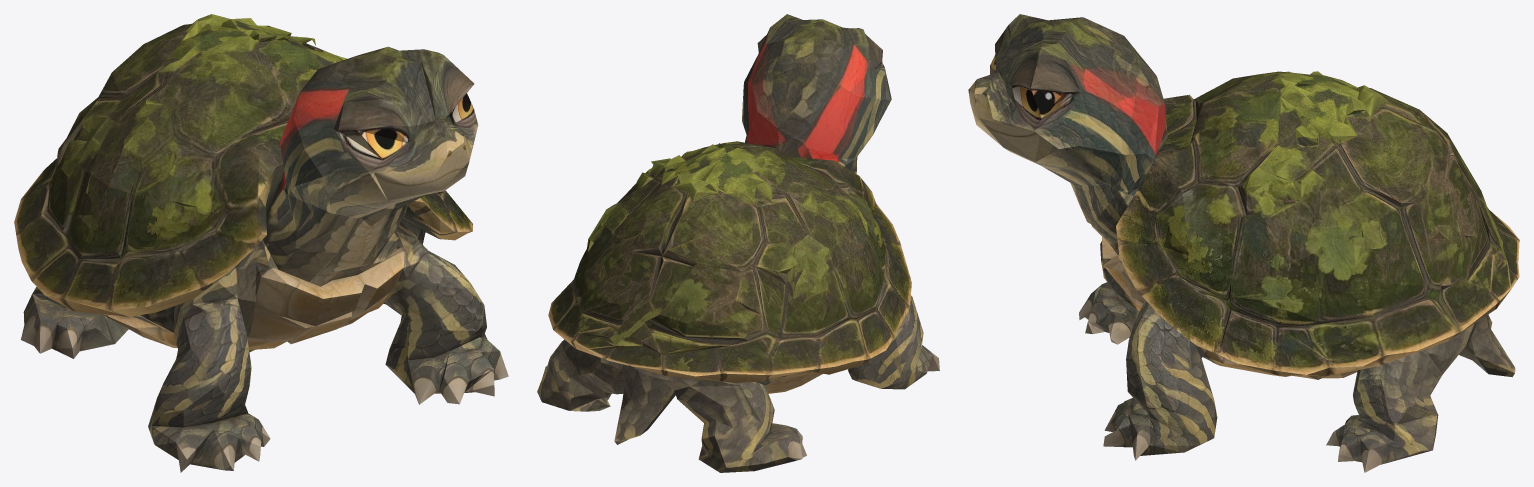
File: turtle.glb
The picture shows the model from 3 angles, left to right: view 1: azimuth 30°, elevation 25°; view 2: azimuth 150°, elevation 25°; view 3: azimuth 270°, elevation 25°; orthographic projection. The views are drawn at different scales.
Bounding box in the file's own units: 0.3293 × 0.3 × 0.4113.
1 material, 1 textured.
